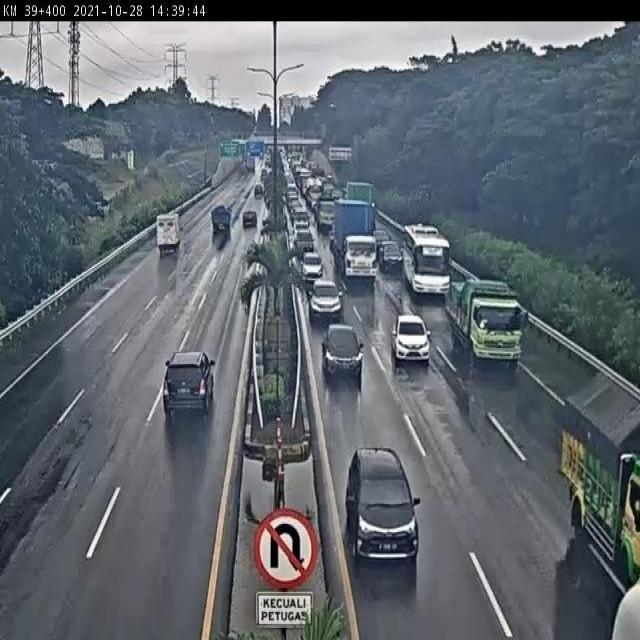Bus: (399, 217, 455, 299)
Car: (343, 450, 422, 566), (154, 348, 222, 416), (319, 320, 367, 381), (390, 313, 431, 367), (307, 278, 343, 325), (378, 238, 404, 273), (301, 252, 324, 289), (294, 223, 315, 256), (242, 210, 257, 227)
Truck: (542, 364, 640, 587), (453, 269, 520, 368), (336, 198, 378, 287), (156, 212, 181, 256), (211, 205, 231, 238)
